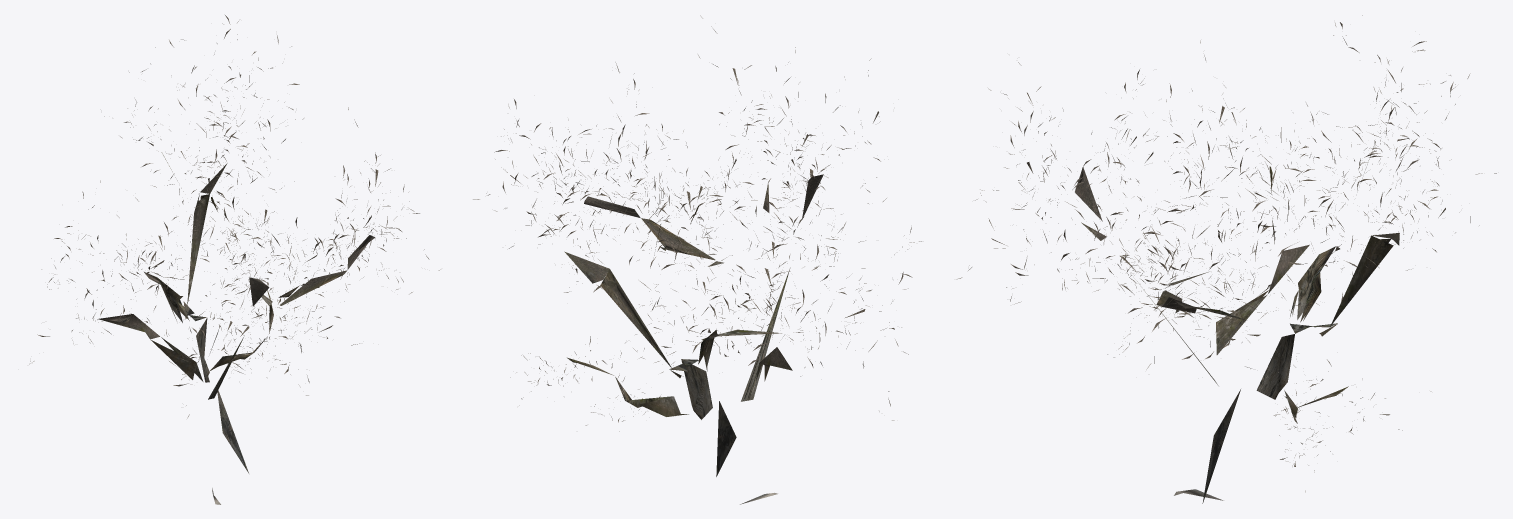
The model's file is island_tree_01.glb.
3 renders of one model, left to right at view 1: azimuth 30°, elevation 25°; view 2: azimuth 150°, elevation 25°; view 3: azimuth 270°, elevation 25°, orthographic. The views are drawn at different scales.
Parts seen in each view (by area): view 1: island_tree_01_LOD0; view 2: island_tree_01_LOD0; view 3: island_tree_01_LOD0.
Part boxes in pixels (x1=…): island_tree_01_LOD0: x1=29, y1=15, x2=440, y2=504; island_tree_01_LOD0: x1=473, y1=15, x2=921, y2=504; island_tree_01_LOD0: x1=956, y1=15, x2=1496, y2=503.
Bounding box in the file's own units: 4.49 × 4.87 × 4.6.
2 materials, 2 textured.
